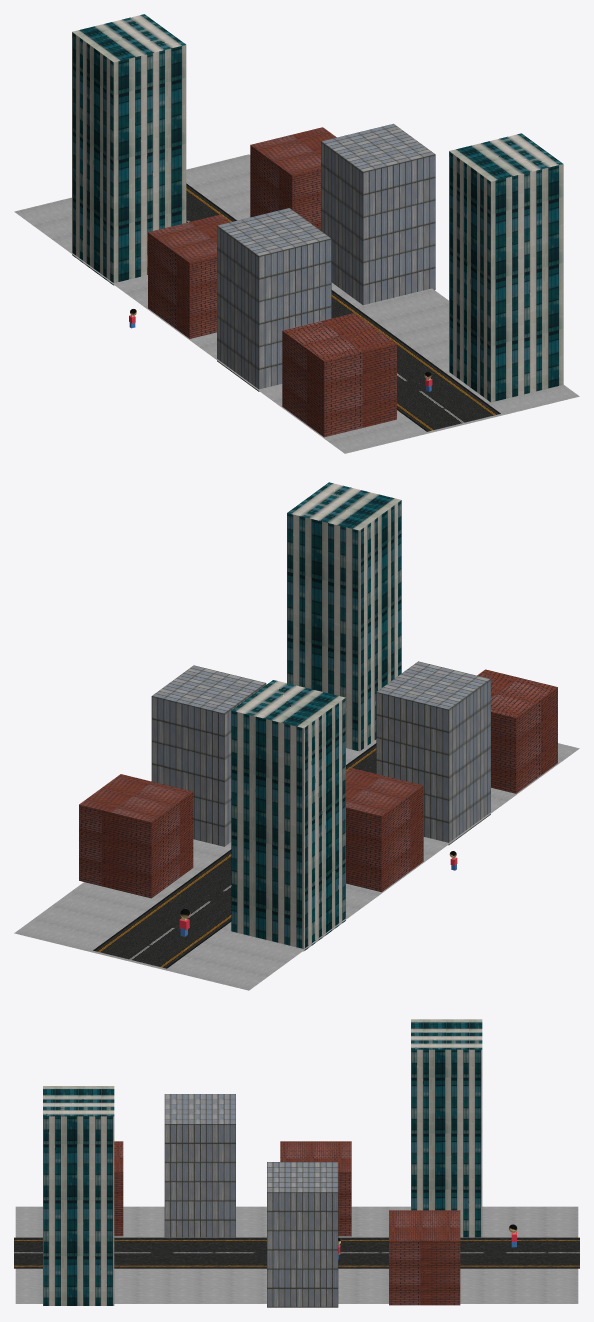
Rendered from mesto3_3.gltf.
3 views of the same model, one above another, from view 1: azimuth 30°, elevation 25°; view 2: azimuth 150°, elevation 25°; view 3: azimuth 270°, elevation 25° (orthographic). The views are drawn at different scales.
Visible parts, largest first — view 1: bloki__levo.004, bloki_desno.004, cesta, bloki__levo.002, bloki_desno.002, bloki_desno.001, bloki_desno.003, bloki__levo.003; view 2: bloki_desno.004, bloki__levo.004, cesta, bloki_desno.002, bloki__levo.002, bloki__levo.003, bloki_desno.003, bloki_desno.001; view 3: cesta, bloki__levo.004, bloki_desno.004, bloki__levo.002, bloki_desno.002, bloki__levo.003, bloki_desno.003, bloki_desno.001.
Part boxes in pixels (x1,y1,x2,y2): bloki__levo.004: [449, 133, 563, 402]; bloki_desno.004: [72, 14, 186, 285]; cesta: [14, 154, 579, 453]; bloki__levo.002: [321, 123, 435, 305]; bloki_desno.002: [217, 208, 331, 391]; bloki_desno.001: [282, 313, 396, 437]; bloki_desno.003: [148, 214, 230, 338]; bloki__levo.003: [250, 127, 336, 230]; bloki_desno.004: [231, 680, 345, 951]; bloki__levo.004: [287, 482, 401, 751]; cesta: [14, 739, 579, 990]; bloki_desno.002: [376, 661, 490, 845]; bloki__levo.002: [151, 665, 266, 846]; bloki__levo.003: [79, 774, 193, 898]; bloki_desno.003: [346, 768, 423, 892]; bloki_desno.001: [477, 669, 557, 793]; cesta: [14, 1206, 579, 1303]; bloki__levo.004: [43, 1086, 114, 1305]; bloki_desno.004: [411, 1019, 482, 1237]; bloki__levo.002: [267, 1162, 338, 1307]; bloki_desno.002: [164, 1094, 235, 1237]; bloki__levo.003: [389, 1210, 460, 1305]; bloki_desno.003: [280, 1141, 351, 1236]; bloki_desno.001: [114, 1141, 123, 1236].
Size of the model in its own units: 11.23 by 8.41 by 22.73.
Materials: 23 (23 with a texture image).
